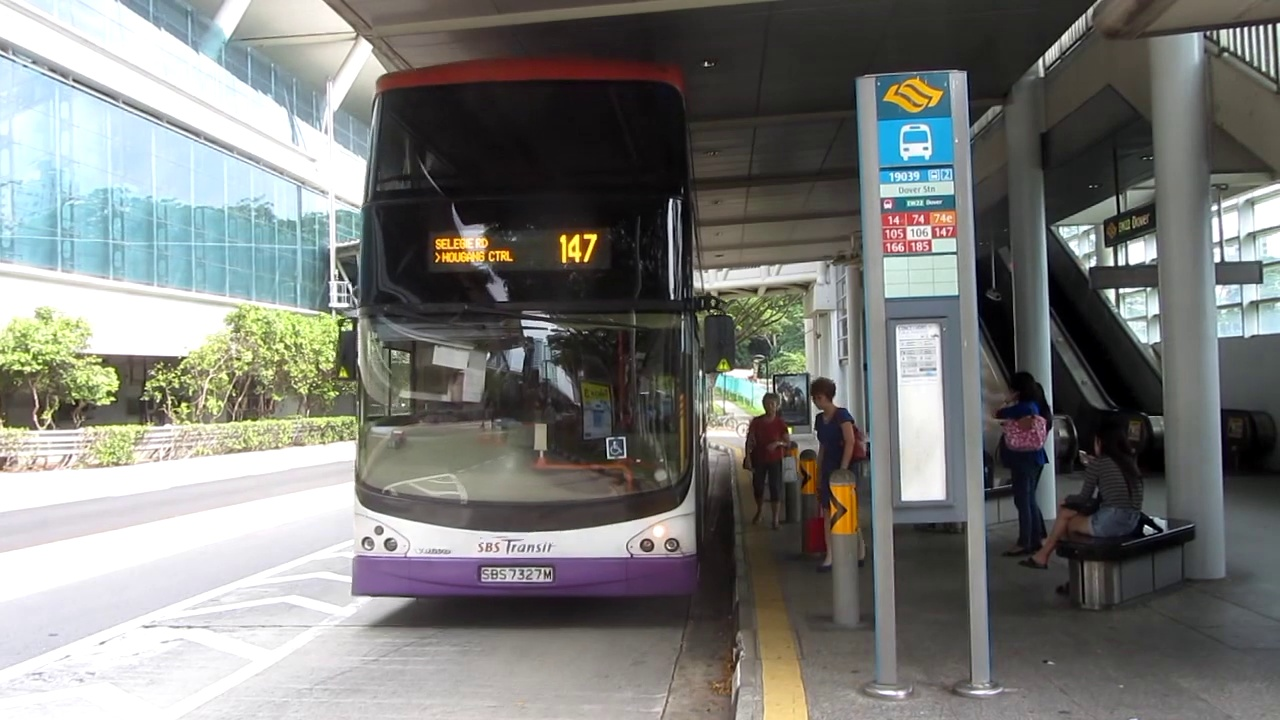bus panel: (425, 226, 613, 275)
